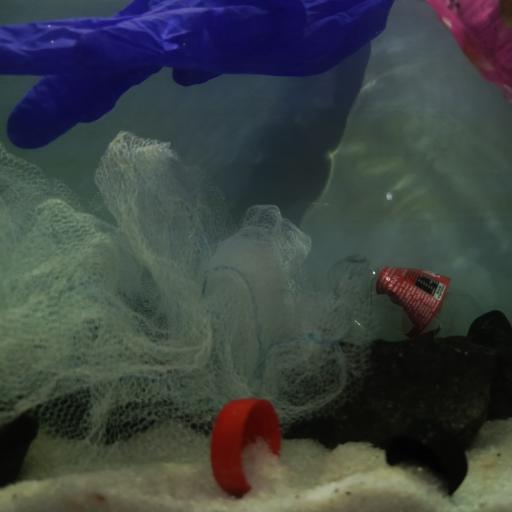bottle_cap: (211, 398, 282, 492)
glove: (0, 0, 397, 151)
net: (0, 126, 378, 468)
plastic_bottle: (325, 252, 482, 339)
